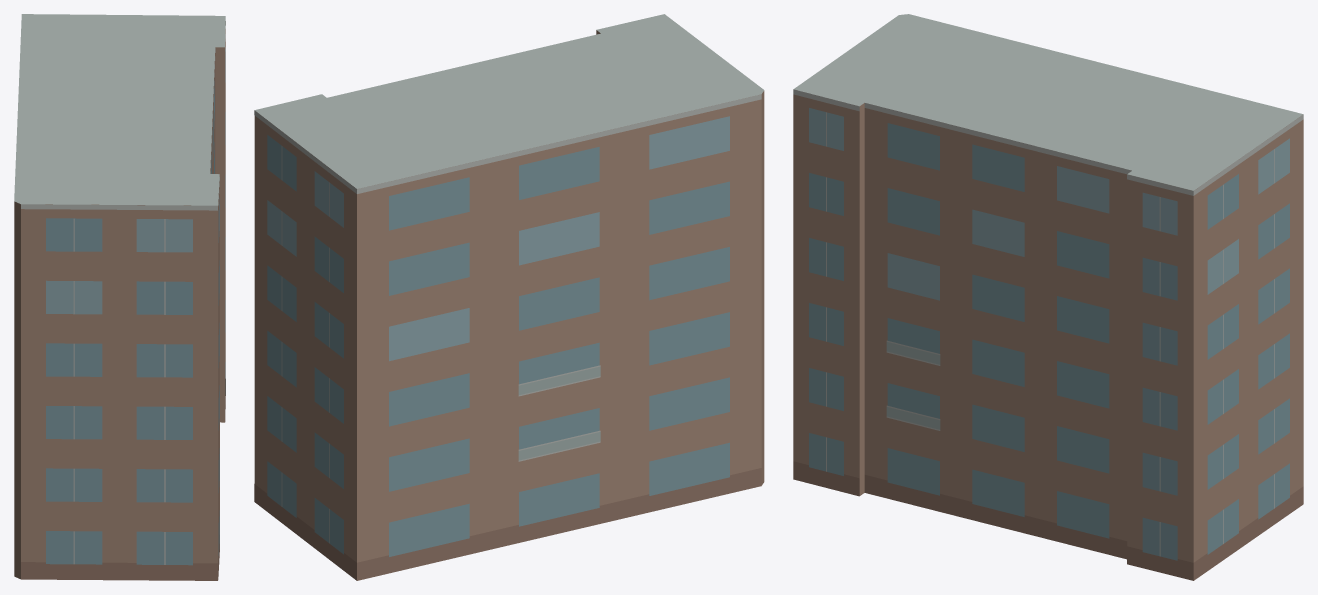
The model's file is survey-upis-32759295.glb.
3 views of the same model, side by side, from view 1: azimuth 30°, elevation 25°; view 2: azimuth 150°, elevation 25°; view 3: azimuth 270°, elevation 25° (orthographic). The views are drawn at different scales.
Parts seen in each view (by area): view 1: survey-upis-32759295.tmp; view 2: survey-upis-32759295.tmp; view 3: survey-upis-32759295.tmp.
Boxes of the visible parts, box(x1,y1,x2,y2) form: survey-upis-32759295.tmp: box(14, 14, 225, 580); survey-upis-32759295.tmp: box(254, 14, 764, 580); survey-upis-32759295.tmp: box(793, 14, 1303, 580).
Size of the model in its own units: 18.19 by 18.7 by 22.18.
